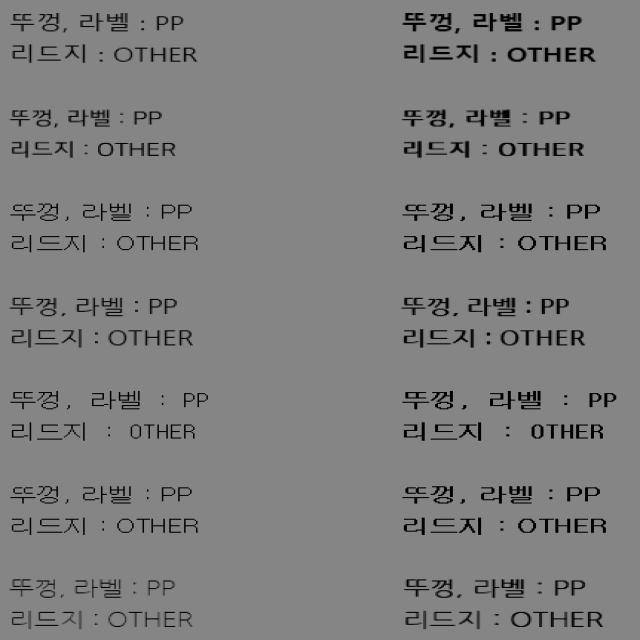bold: (394, 569, 610, 638), (396, 4, 602, 71), (394, 479, 613, 542), (399, 199, 613, 259), (399, 288, 591, 354), (400, 388, 618, 444), (398, 103, 589, 163)
normal: (6, 384, 215, 448), (4, 478, 208, 542), (6, 569, 200, 634), (6, 8, 205, 70), (6, 197, 205, 257), (6, 290, 200, 348), (6, 103, 185, 163)
